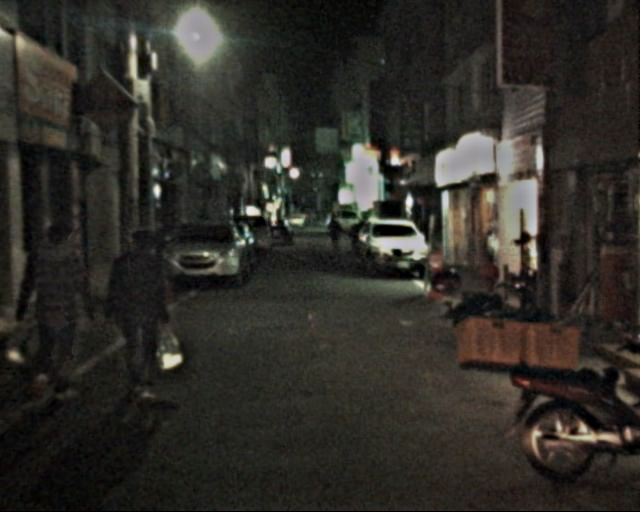person: (17, 218, 97, 397), (106, 226, 175, 402), (326, 214, 343, 255)
